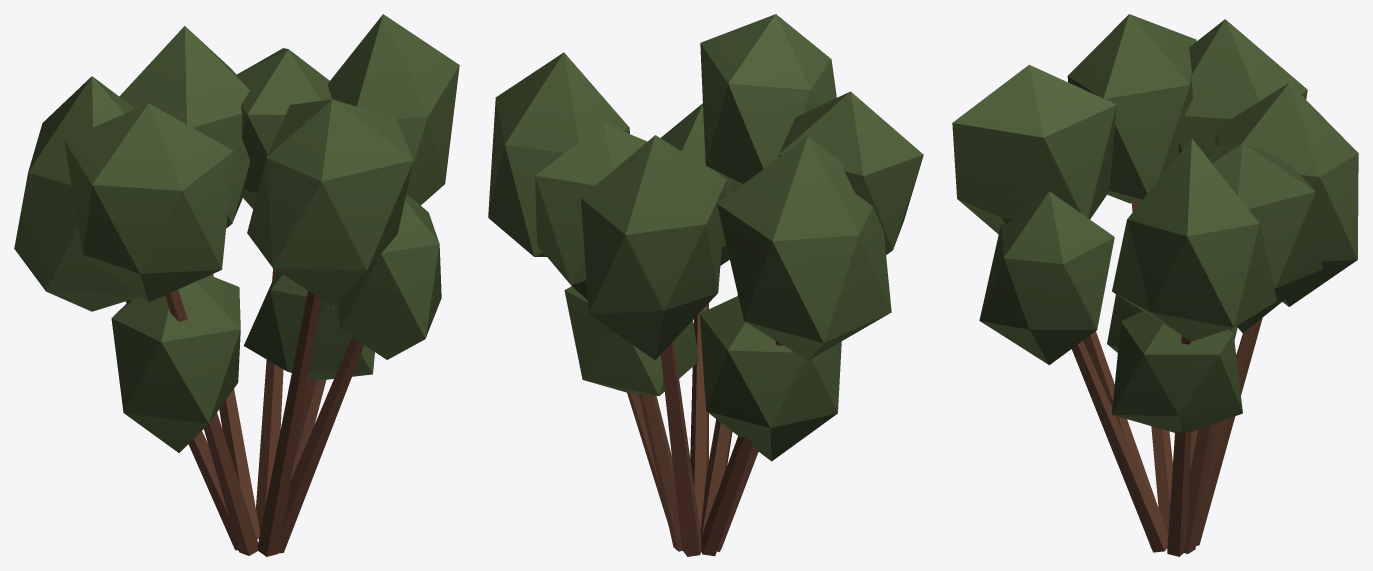
Rendered from willow.glb.
The picture shows the model from 3 angles, left to right: view 1: azimuth 30°, elevation 25°; view 2: azimuth 150°, elevation 25°; view 3: azimuth 270°, elevation 25°; orthographic projection. The views are drawn at different scales.
Visible parts, largest first — view 1: willow; view 2: willow; view 3: willow.
Boxes of the visible parts, x1=… form: willow: x1=14, y1=14, x2=459, y2=556; willow: x1=488, y1=14, x2=923, y2=556; willow: x1=952, y1=14, x2=1358, y2=556.
Bounding box in the file's own units: 0.9347 × 1.09 × 0.8354.
